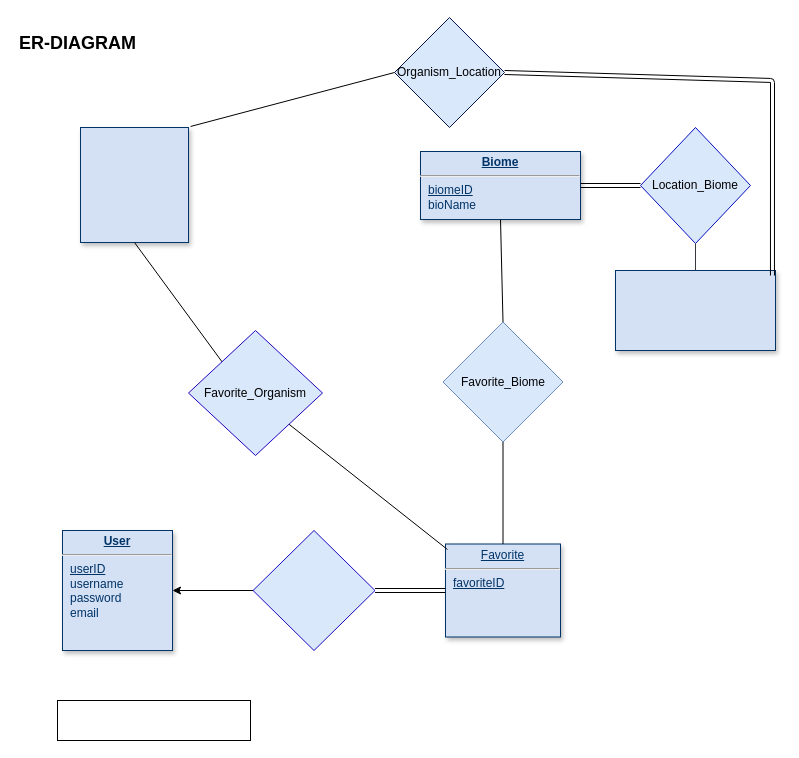
This 799x758 diagram has some shape labels left out. Each missing label, with the centre of its shape:
"Location locationID locName" goes at (x=696, y=312).
"Organism organismID orgName sciName orgType" goes at (x=135, y=186).
"Used ER-Notation from the Notes" goes at (x=153, y=720).
"User_Favorite" goes at (x=313, y=590).
